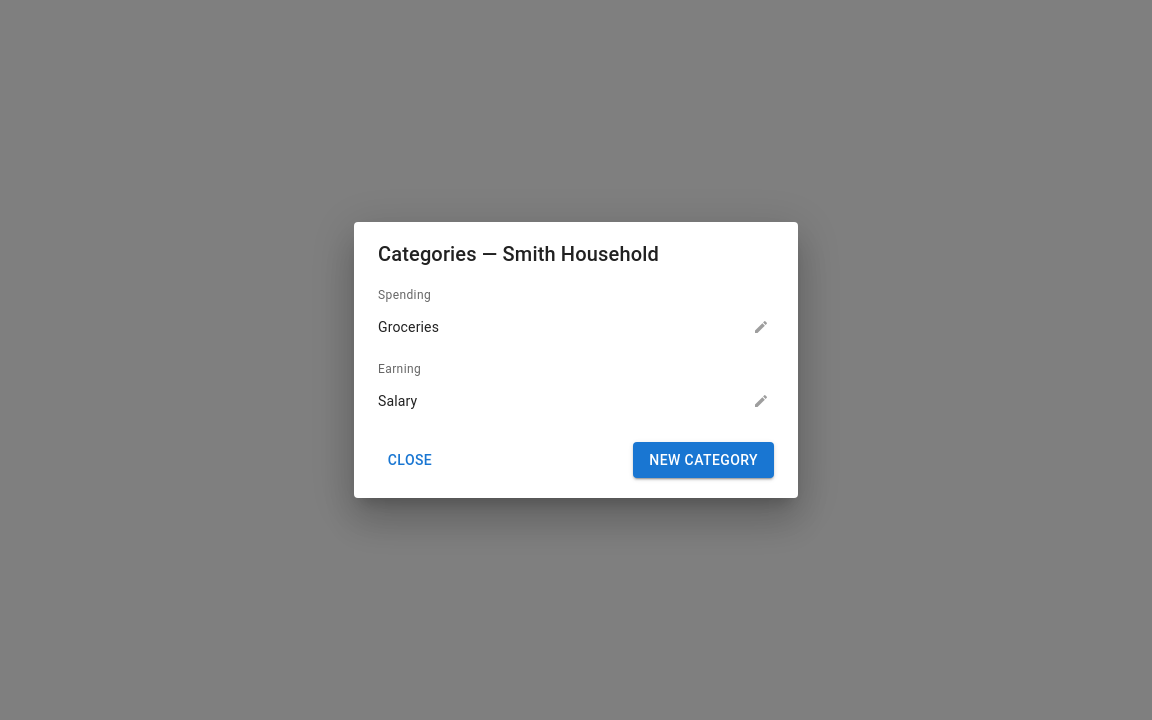
CategoryManagementDialog title › shows "Edit category" title after clicking the edit button
Check: the text "Groceries" is shown, box x1=378 y1=317 x2=439 y2=337
Click the button named "edit groceries" at (761, 327), box x1=748 y1=314 x2=774 y2=340
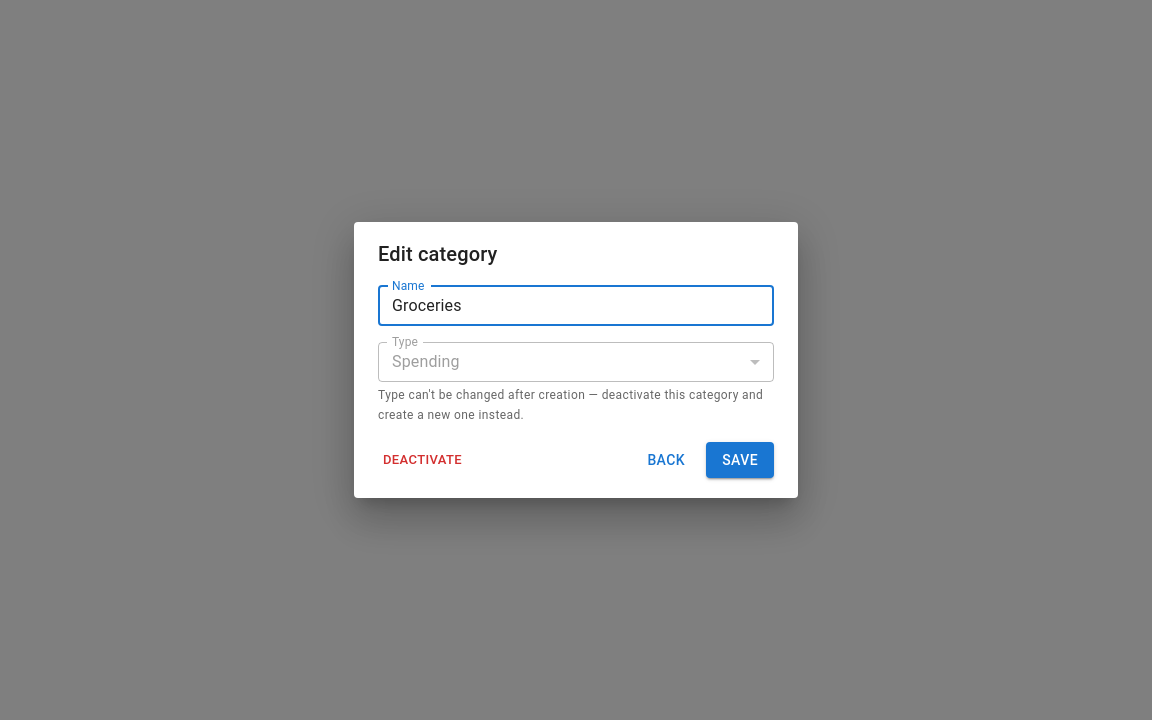
Check: the heading "Edit category" is shown, box x1=378 y1=242 x2=498 y2=266
